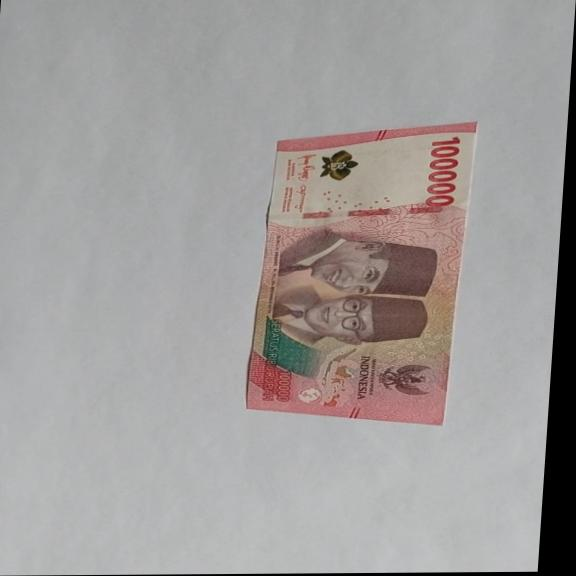Kertas: (242, 121, 479, 428), (423, 135, 464, 208)
